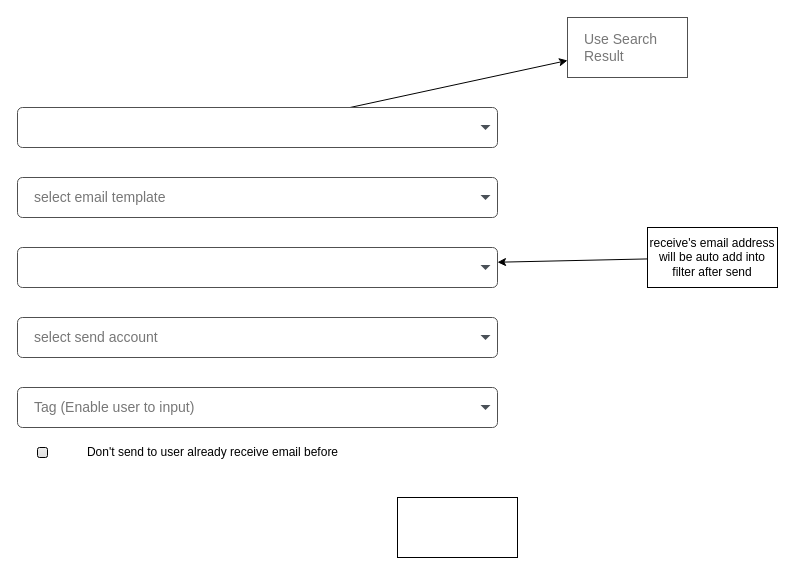
Image size: 795x575. Some labels were removed from this diagram. Each missing label, with the box of its shape:
Create Filter or Selete a filter: (16, 246, 498, 288)
marketing type: (16, 106, 498, 148)
Start Send: (396, 496, 518, 558)
